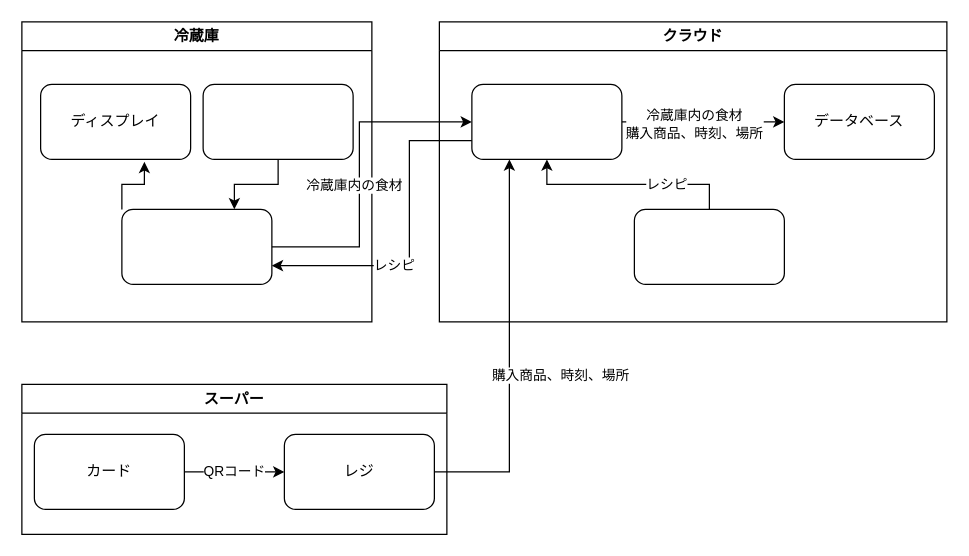
Image size: 969x556. Some labels were removed from this diagram. The centre of each missing label's shape, as x and y in pixels:
エッジコンピュータ: the point at 196,246
カメラ: the point at 277,121
サーバー: the point at 546,121
レシピ情報サイト: the point at 708,246
